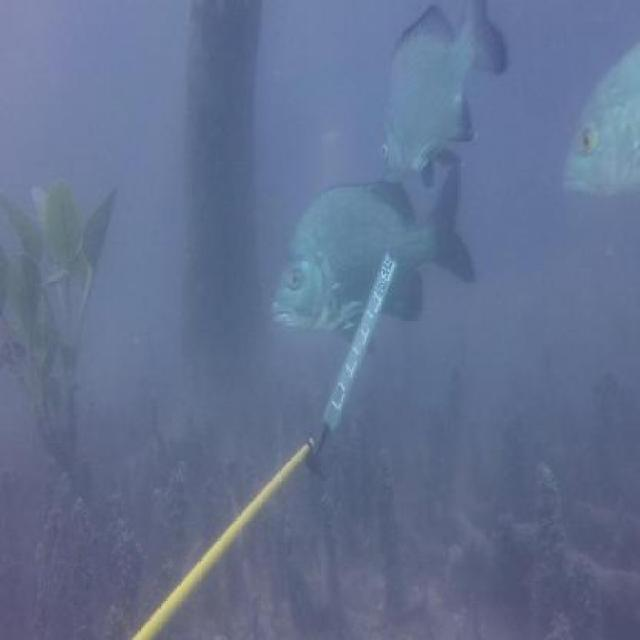Caranx: (561, 33, 640, 210)
acanthopagrus_palmaris: (266, 172, 480, 362), (374, 0, 508, 191)
